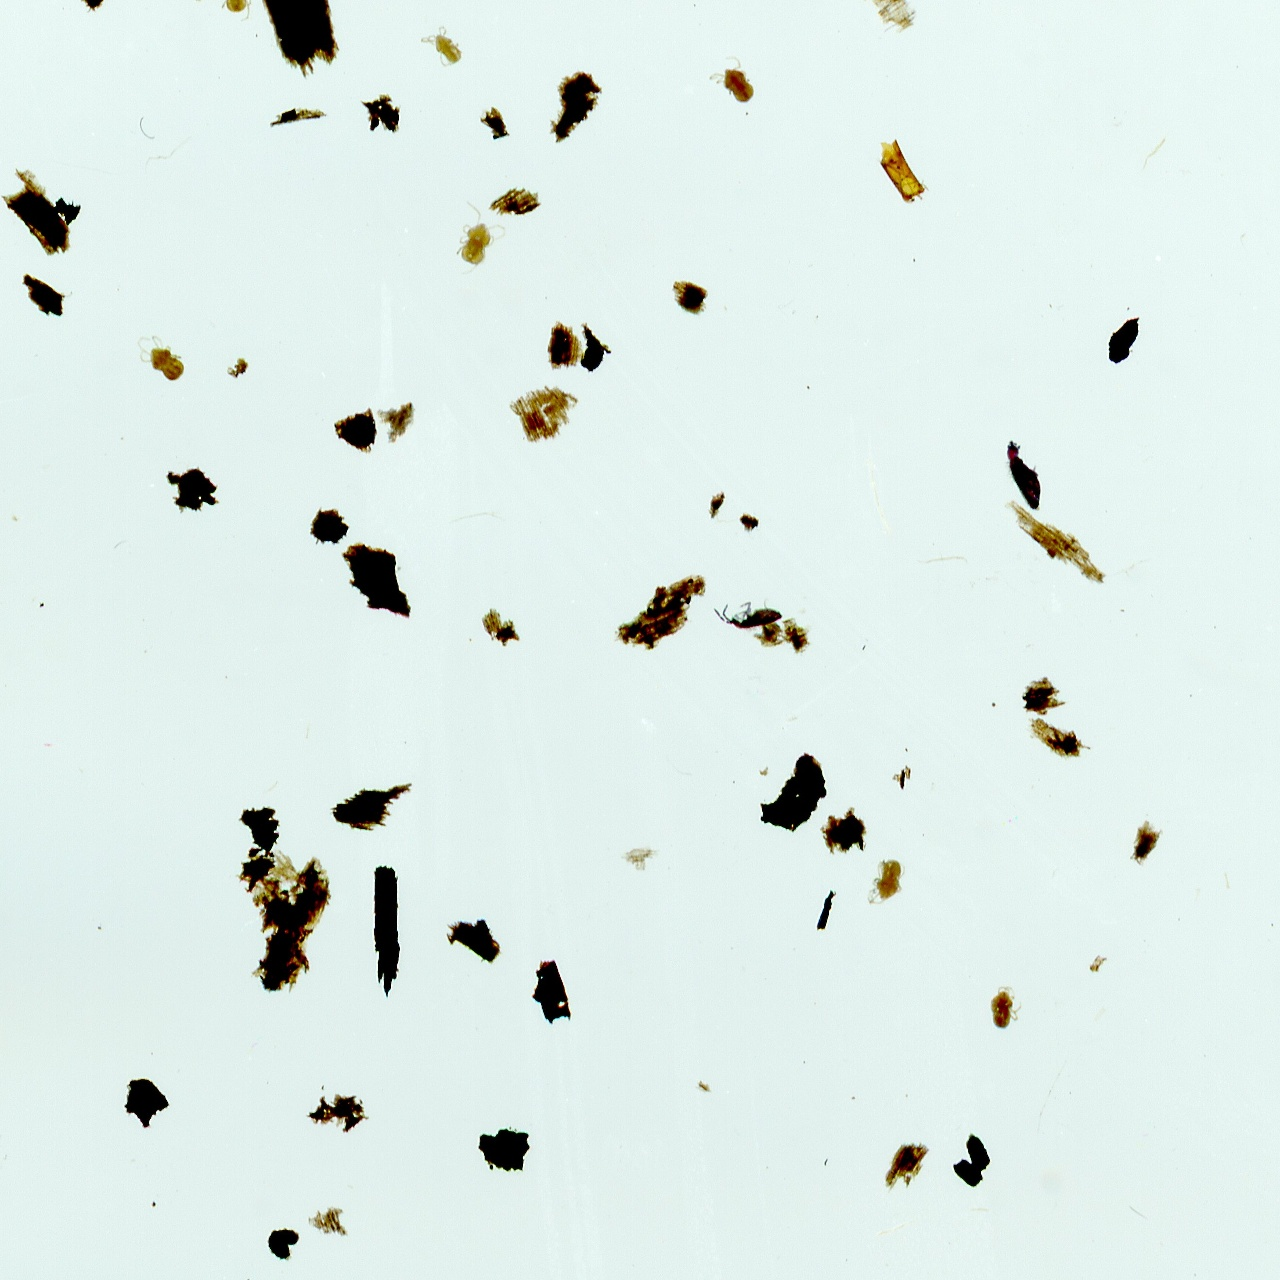arthropod: (451, 199, 511, 277), (1003, 431, 1048, 519), (709, 593, 785, 632), (708, 54, 761, 107), (135, 334, 189, 382), (865, 855, 908, 908), (417, 21, 463, 68), (987, 982, 1024, 1032), (212, 0, 254, 25)
